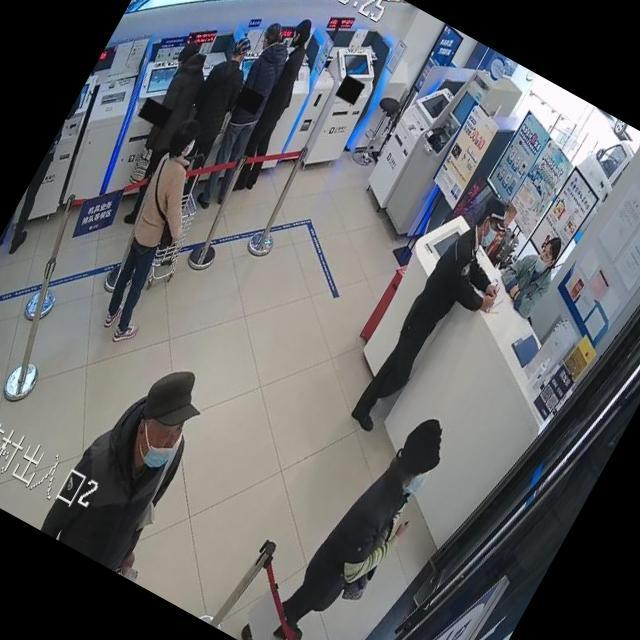person: (346, 187, 538, 456), (263, 395, 462, 640), (40, 345, 226, 577), (71, 114, 239, 348), (174, 15, 314, 216), (95, 33, 228, 226), (210, 15, 338, 201), (210, 14, 338, 198), (0, 72, 112, 259), (152, 30, 271, 197), (489, 222, 574, 324)
